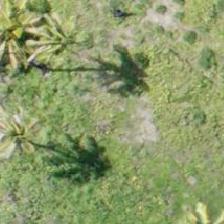coconut_tree: (12, 0, 102, 89), (0, 93, 59, 183), (0, 0, 46, 73)
